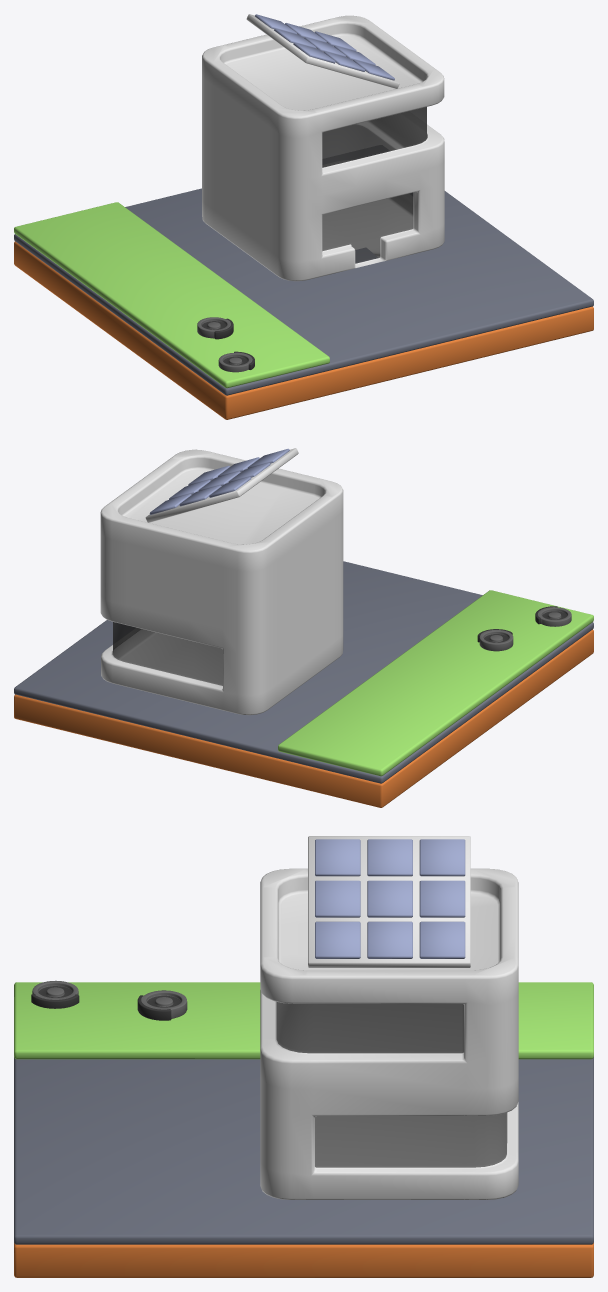
The model's file is building-2.glb.
The picture shows the model from 3 angles, top to bottom: view 1: azimuth 30°, elevation 25°; view 2: azimuth 150°, elevation 25°; view 3: azimuth 270°, elevation 25°; orthographic projection. The views are drawn at different scales.
Parts seen in each view (by area): view 1: House, Concrete, Plane.002, Plane, Plane.004, Plane.003, Cylinder, Cylinder.001; view 2: House, Concrete, Plane.002, Plane, Plane.004, Plane.003, Cylinder, Cylinder.001; view 3: Concrete, House, Plane.002, Plane, Plane.004, Plane.003, Cylinder, Cylinder.001.
Part boxes in pixels (box(x1,y1,x2,y2)): House: box(202, 15, 444, 281); Concrete: box(14, 188, 593, 395); Plane.002: box(14, 202, 329, 388); Plane: box(14, 241, 593, 419); Plane.004: box(255, 14, 394, 80); Plane.003: box(246, 14, 399, 88); Cylinder: box(197, 317, 233, 339); Cylinder.001: box(218, 351, 254, 372); House: box(100, 449, 343, 715); Concrete: box(14, 561, 593, 783); Plane.002: box(278, 590, 593, 776); Plane: box(14, 629, 593, 807); Plane.004: box(149, 448, 289, 514); Plane.003: box(145, 448, 298, 522); Cylinder: box(477, 629, 513, 651); Cylinder.001: box(535, 606, 571, 626); Concrete: box(14, 1057, 593, 1244); House: box(260, 868, 518, 1199); Plane.002: box(14, 982, 593, 1059); Plane: box(14, 1242, 593, 1277); Plane.004: box(315, 839, 465, 958); Plane.003: box(308, 836, 470, 967); Cylinder: box(137, 990, 187, 1020); Cylinder.001: box(31, 980, 79, 1008).
Size of the model in its own units: 10 by 6.17 by 10.
